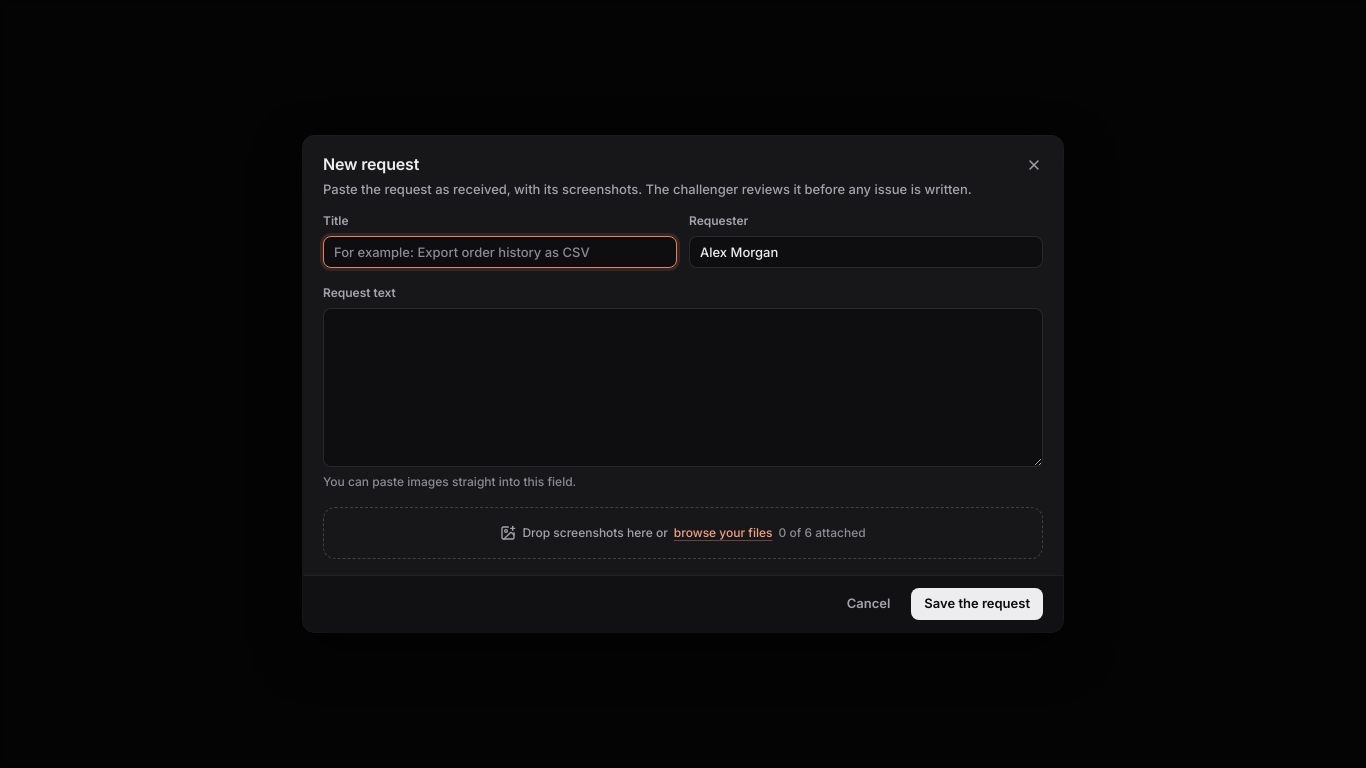
Test case: NewRequestDialog › asks for what is missing and sends nothing until the title, the requester and the text are given
Step 1. Clear the field labelled "Requester" → (866, 252), box top-left (689, 236), bottom-right (1043, 268)
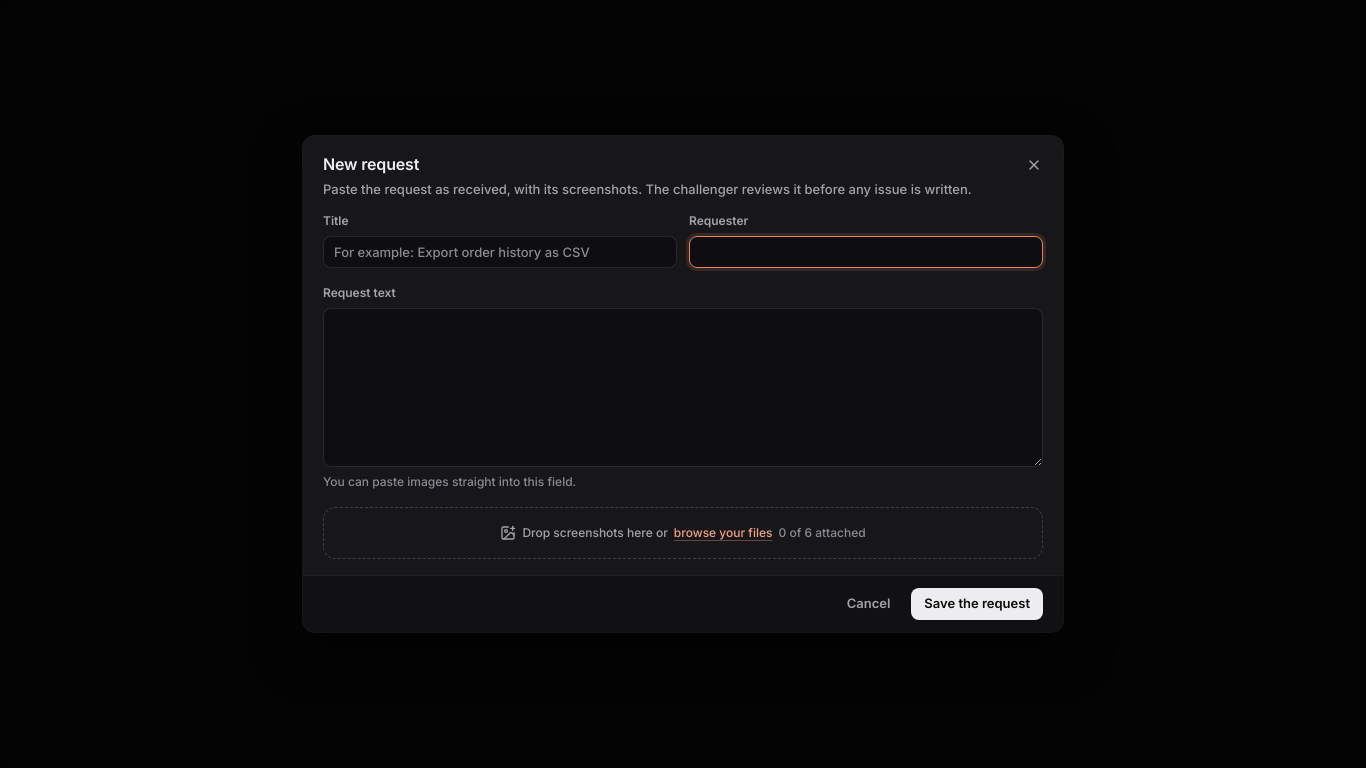
Step 2. Click the button "Save the request" → (977, 604), box top-left (911, 588), bottom-right (1043, 620)
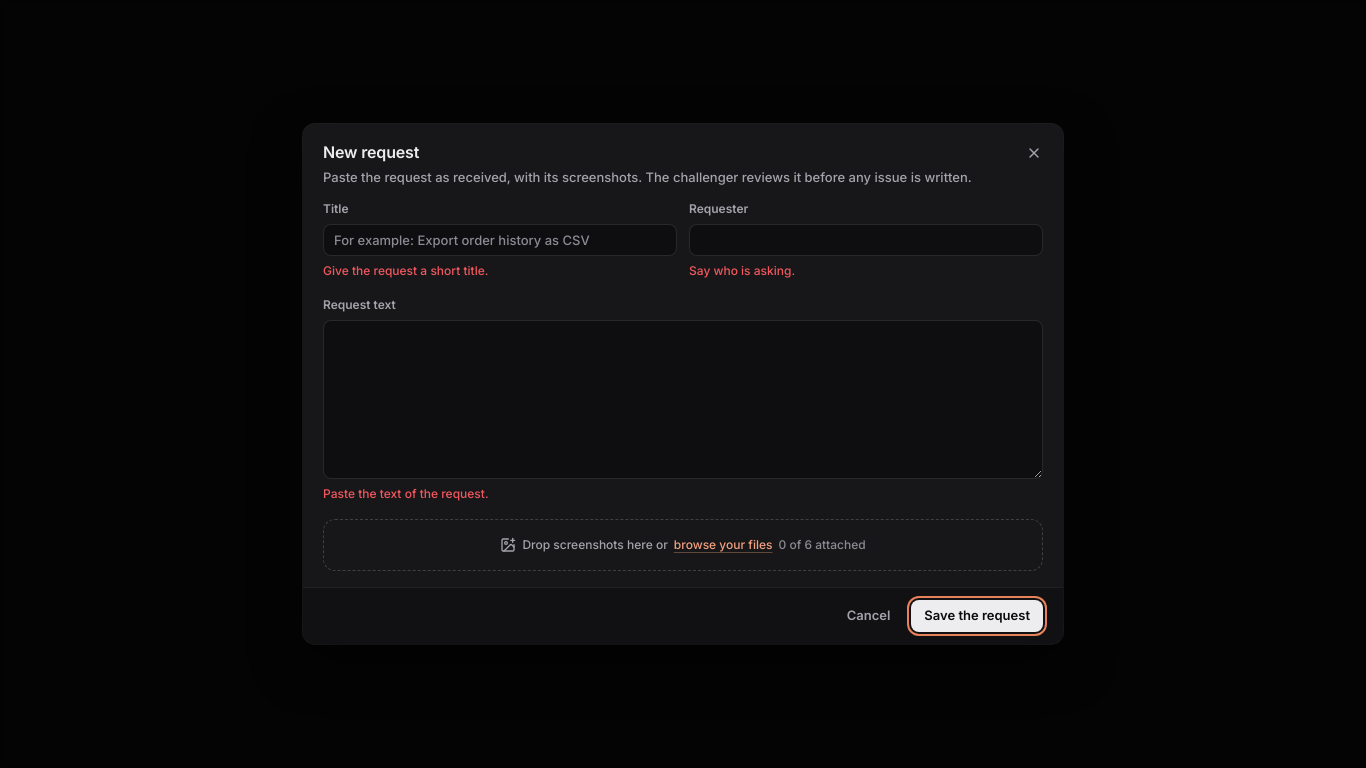
Expected: the text "Give the request a short title." is shown, top-left (323, 263), bottom-right (488, 278)
Expected: the text "Say who is asking." is shown, top-left (689, 263), bottom-right (795, 278)
Expected: the text "Paste the text of the request." is shown, top-left (323, 486), bottom-right (488, 501)
